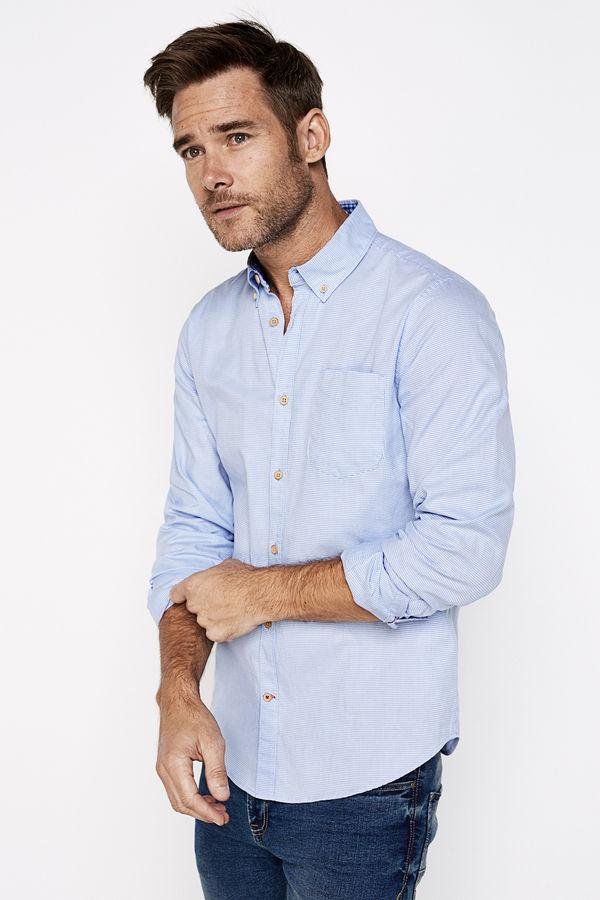teeshirt: (134, 236, 511, 782)
